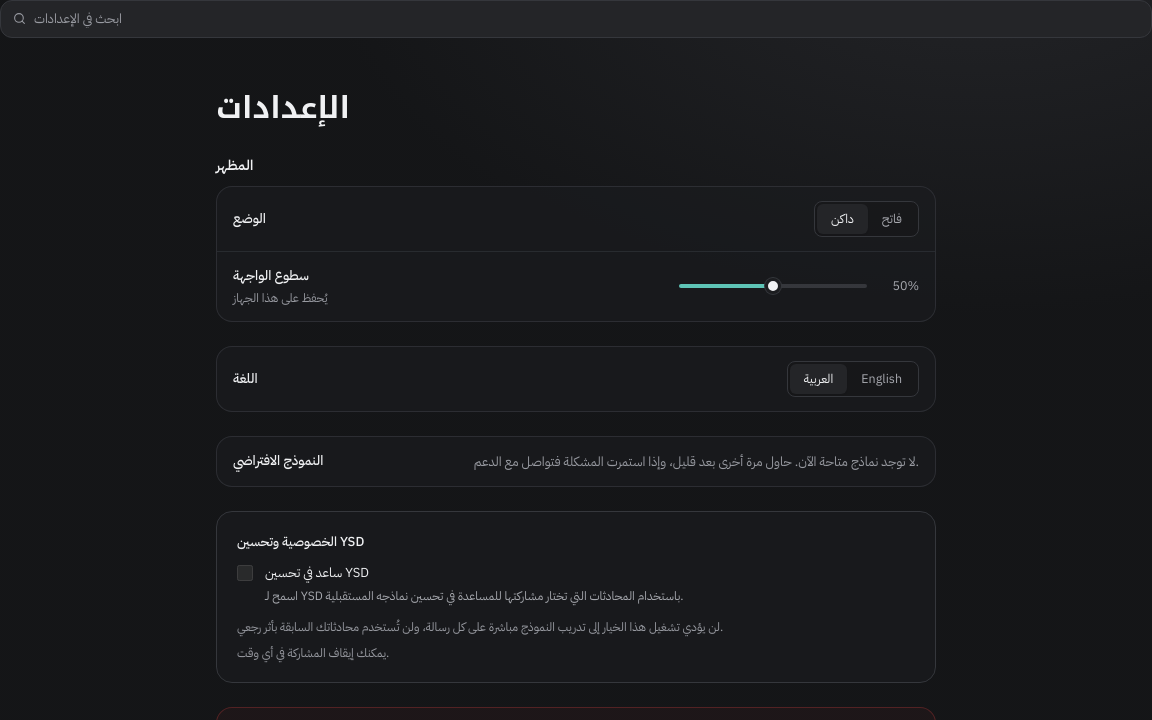
Test case: البحث في الإعدادات › لا مطابقة ⇒ رسالة صريحة ولا قسم
The image size is (1152, 720).
Type "zzz" into the search field at (586, 19), box left=34, top=9, right=1139, bottom=28
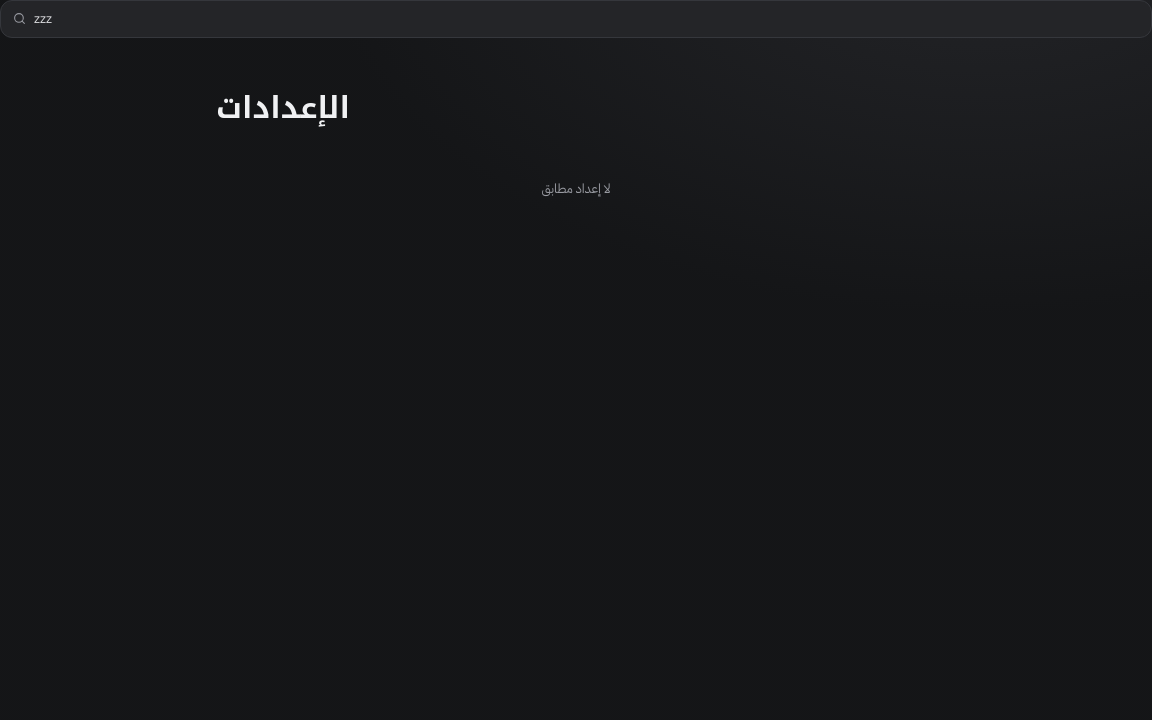
Check: the message reads "لا إعداد مطابق", box left=541, top=178, right=611, bottom=198
